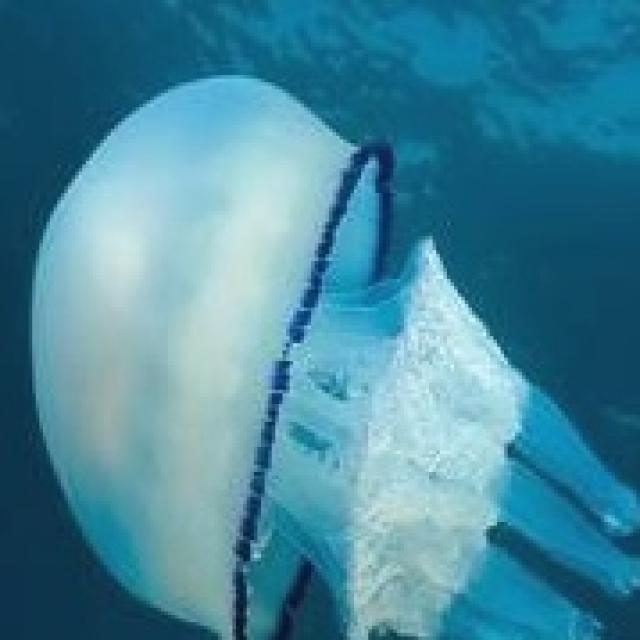Box-jellyfish: (25, 71, 636, 636)
